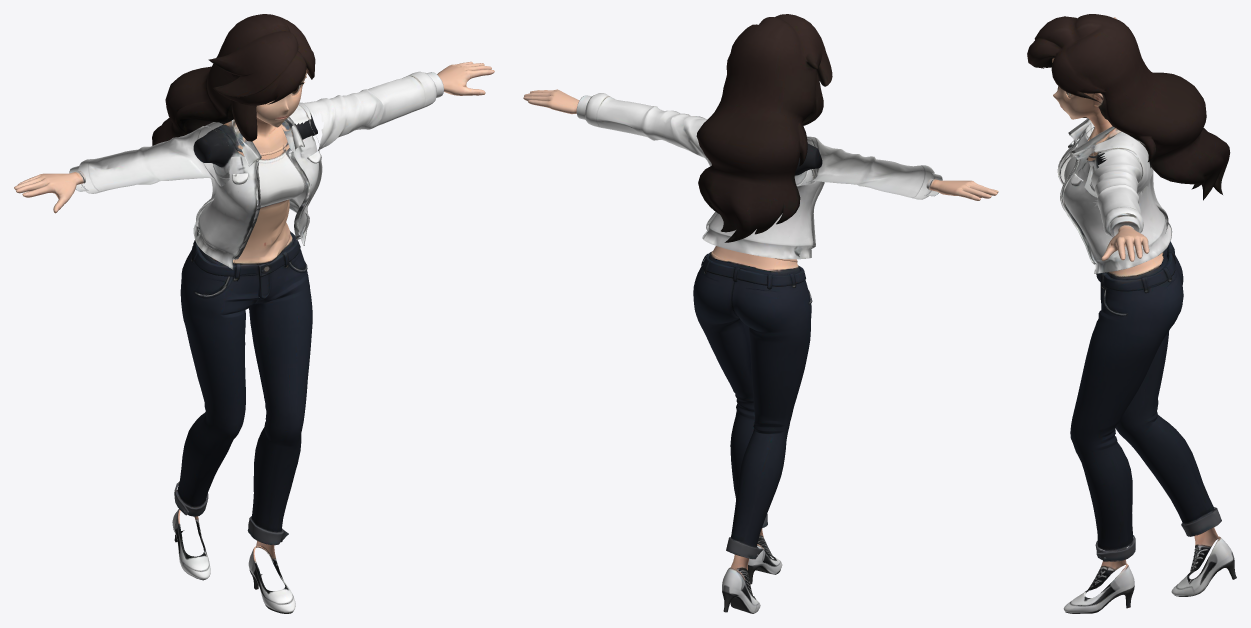
File: toonstudio_female_hero.glb
The picture shows the model from 3 angles, left to right: view 1: azimuth 30°, elevation 25°; view 2: azimuth 150°, elevation 25°; view 3: azimuth 270°, elevation 25°; orthographic projection. The views are drawn at different scales.
Visible parts, largest first — view 1: tripo_75d5ef40_01db_4722_948e_b8cdafa09f04; view 2: tripo_75d5ef40_01db_4722_948e_b8cdafa09f04; view 3: tripo_75d5ef40_01db_4722_948e_b8cdafa09f04.
Boxes of the visible parts, left/top/right/bottom form: tripo_75d5ef40_01db_4722_948e_b8cdafa09f04: left=14, top=14, right=494, bottom=613; tripo_75d5ef40_01db_4722_948e_b8cdafa09f04: left=523, top=14, right=998, bottom=613; tripo_75d5ef40_01db_4722_948e_b8cdafa09f04: left=1027, top=14, right=1236, bottom=613.
Size of the model in its own units: 1.43 by 1.65 by 0.5312.
1 material, 1 textured.
